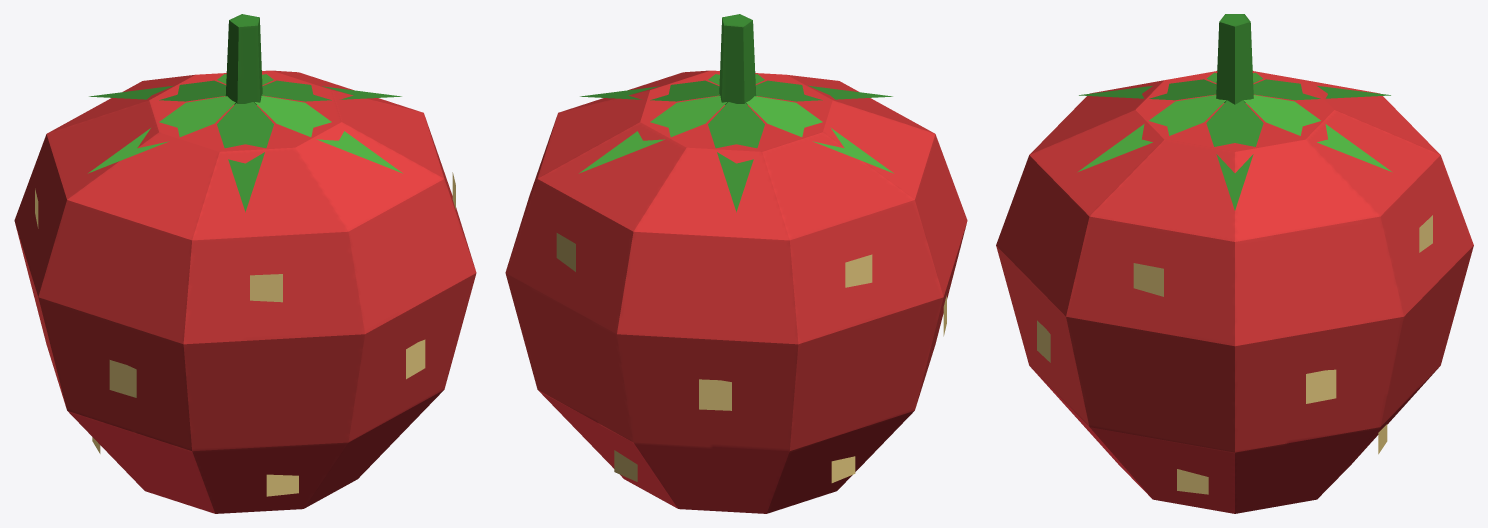
Rendered from Strawberry.fbx.
3 renders of one model, left to right at view 1: azimuth 30°, elevation 25°; view 2: azimuth 150°, elevation 25°; view 3: azimuth 270°, elevation 25°, orthographic.
Visible parts, largest first — view 1: Strawberry; view 2: Strawberry; view 3: Strawberry.
Part boxes in pixels (box(x1,y1,x2,y2)): Strawberry: box(14, 14, 476, 513); Strawberry: box(505, 14, 967, 513); Strawberry: box(996, 14, 1473, 513).
Size of the model in its own units: 144 by 160 by 144.
Materials: 1 (1 with a texture image).
